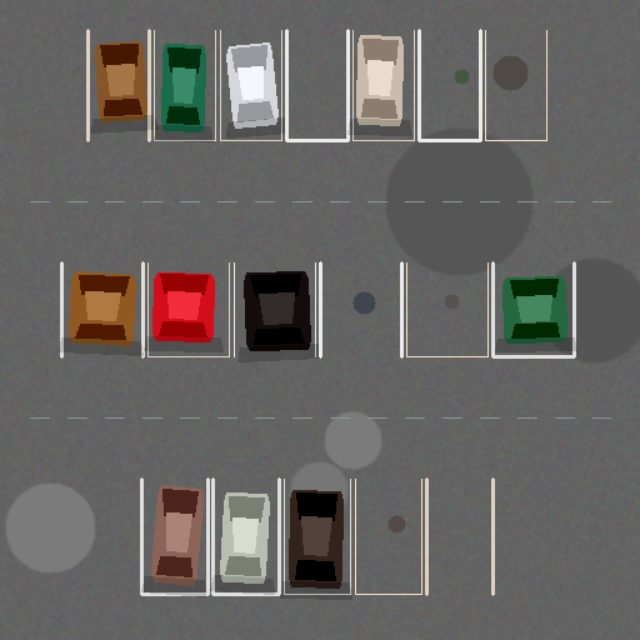space-empty: (320, 262, 401, 356), (406, 262, 487, 356), (355, 479, 421, 594), (426, 479, 492, 594), (286, 30, 347, 140), (419, 30, 480, 140), (485, 30, 546, 140)
space-occupied: (61, 262, 143, 356), (147, 262, 229, 356), (141, 479, 208, 594), (212, 479, 279, 594), (234, 262, 315, 356), (493, 262, 574, 356), (284, 479, 350, 594), (87, 30, 149, 140), (154, 30, 215, 140), (220, 30, 281, 140), (353, 30, 414, 140)
